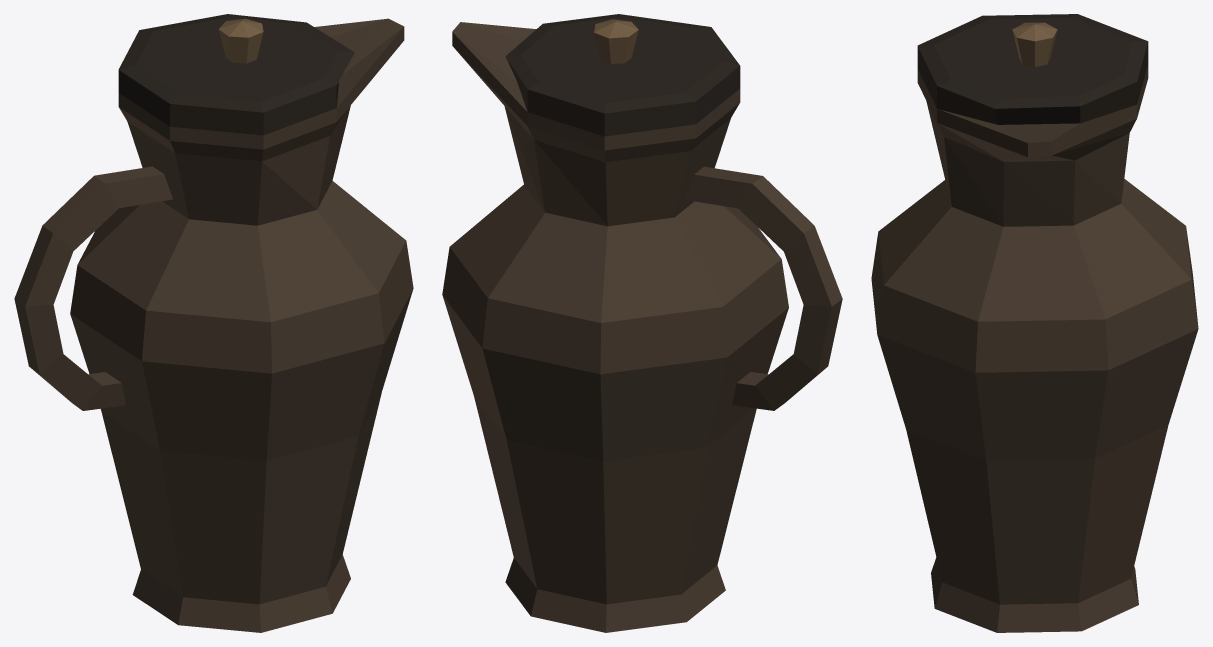
File: Jug_2.fbx
The picture shows the model from 3 angles, left to right: view 1: azimuth 30°, elevation 25°; view 2: azimuth 150°, elevation 25°; view 3: azimuth 270°, elevation 25°; orthographic projection.
Parts seen in each view (by area): view 1: polySurface2533; view 2: polySurface2533; view 3: polySurface2533.
Part boxes in pixels (bbox=[...]): polySurface2533: bbox=[14, 14, 413, 632]; polySurface2533: bbox=[442, 14, 842, 632]; polySurface2533: bbox=[871, 14, 1198, 632].
Size of the model in its own units: 33.71 by 47.83 by 25.11.
